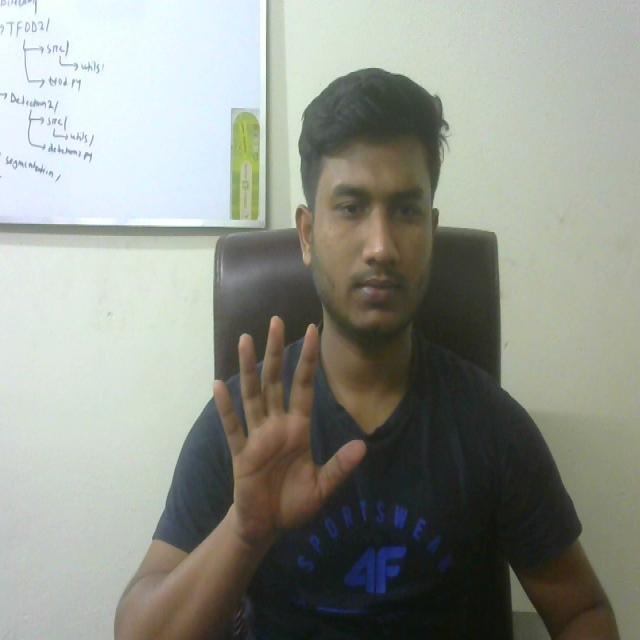Hello: (195, 310, 373, 559)
